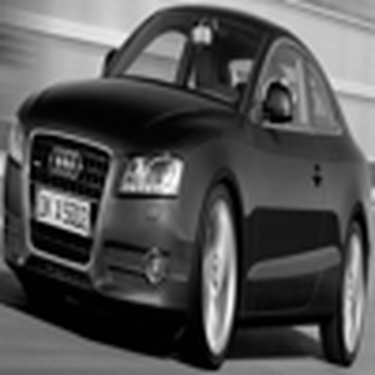car: (1, 23, 362, 351)
